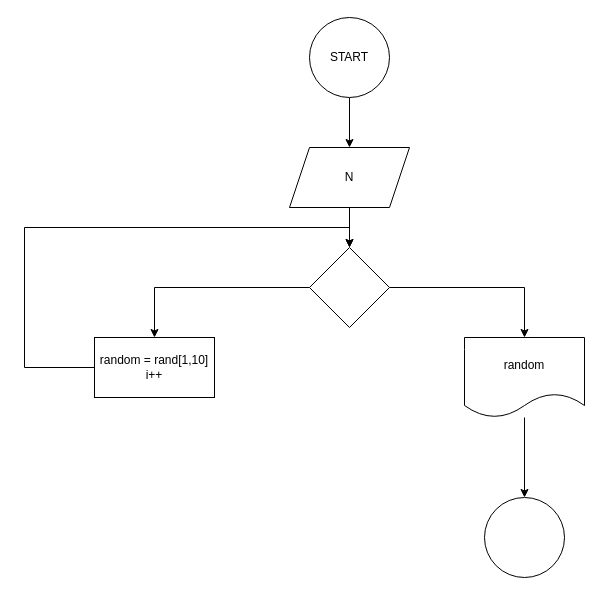
This 602x595 diagram has some shape labels left out. The shapes that lost their labels are listed below. From the top down, each one's centre as x and y in pixels, then its label:
the point at 349,287: i <= N
the point at 524,537: End
